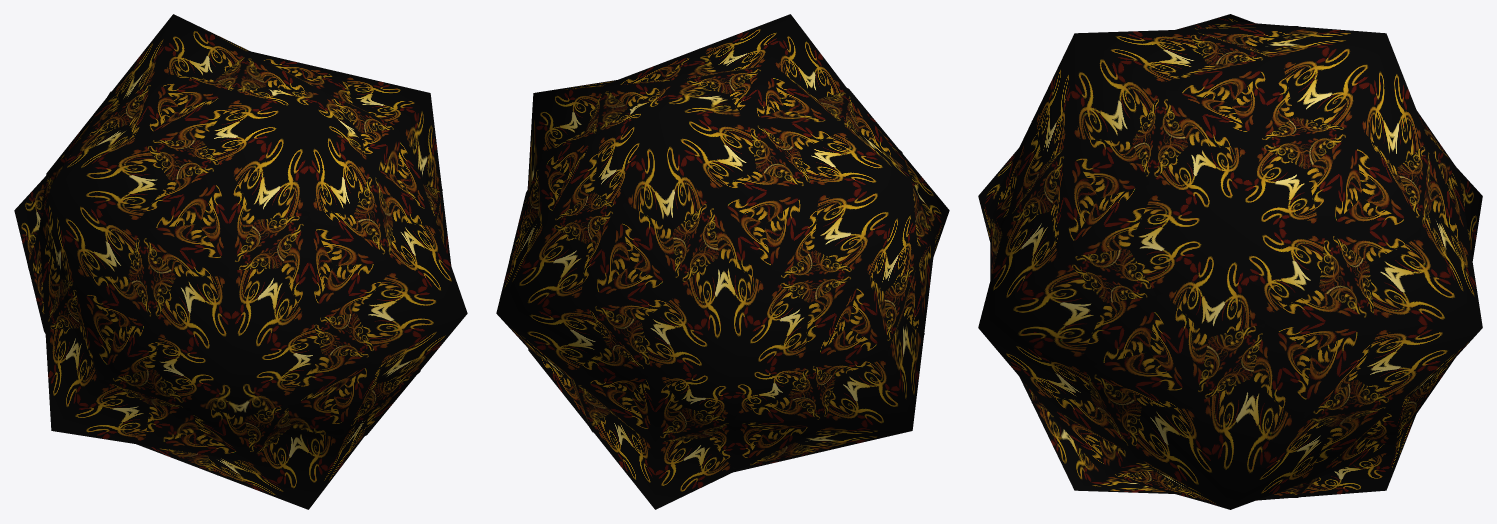
Rendered from 28MedialPentagonalHexecontahedron.gltf.
The picture shows the model from 3 angles, left to right: view 1: azimuth 30°, elevation 25°; view 2: azimuth 150°, elevation 25°; view 3: azimuth 270°, elevation 25°; orthographic projection. The views are drawn at different scales.
Parts seen in each view (by area): view 1: 7MedialPentagonalHexecontahedron; view 2: 7MedialPentagonalHexecontahedron; view 3: 7MedialPentagonalHexecontahedron.
Part boxes in pixels (box(x1,y1,x2,y2)): 7MedialPentagonalHexecontahedron: box(14, 14, 467, 509); 7MedialPentagonalHexecontahedron: box(496, 14, 949, 509); 7MedialPentagonalHexecontahedron: box(978, 14, 1482, 509).
Size of the model in its own units: 2.46 by 2.46 by 2.46.
Materials: 1 (1 with a texture image).
